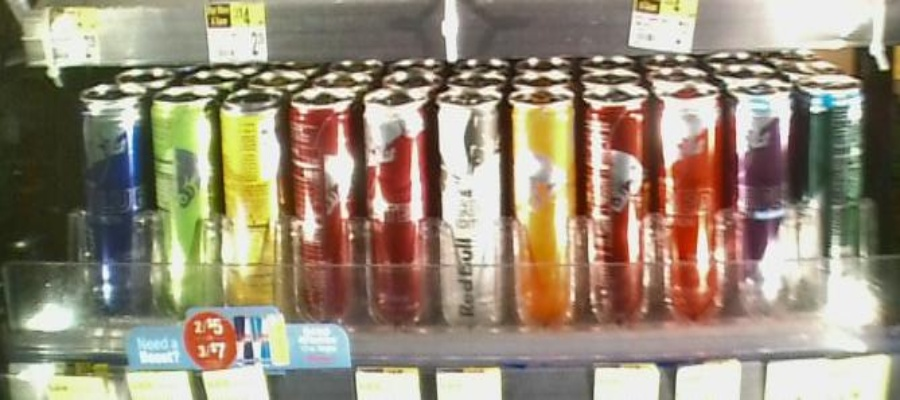bottle: (78, 80, 148, 329), (435, 80, 506, 325), (583, 83, 652, 327), (219, 81, 288, 324), (151, 76, 217, 329), (726, 80, 799, 308), (365, 86, 432, 331), (291, 83, 359, 320), (510, 86, 574, 336), (802, 76, 869, 310), (659, 80, 724, 320)
